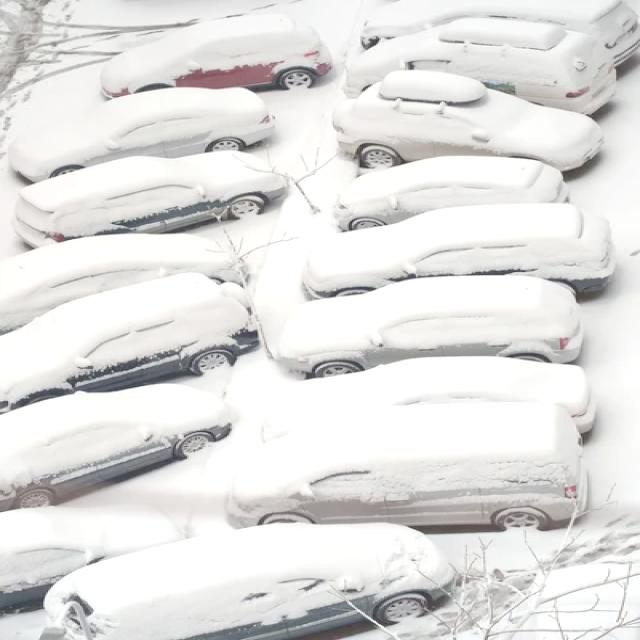car: (44, 523, 449, 640), (230, 411, 582, 537), (0, 272, 261, 409), (0, 376, 236, 511), (333, 70, 607, 184), (306, 203, 612, 305), (266, 357, 596, 450), (271, 277, 583, 372), (0, 227, 250, 341), (345, 17, 617, 118), (13, 86, 271, 186), (0, 502, 180, 612), (100, 13, 330, 94), (330, 154, 570, 231)
